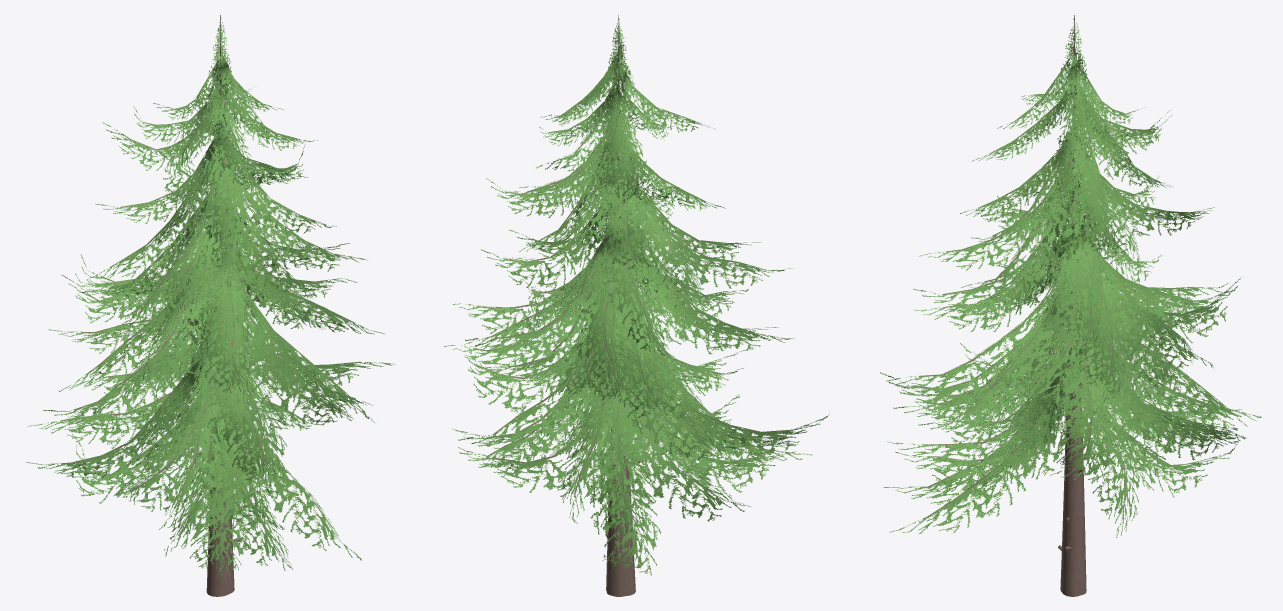
Rendered from tree_Pine_L2_LOD0.fbx.
The picture shows the model from 3 angles, left to right: view 1: azimuth 30°, elevation 25°; view 2: azimuth 150°, elevation 25°; view 3: azimuth 270°, elevation 25°; orthographic projection.
Visible parts, largest first — view 1: Pine_L2_LOD0; view 2: Pine_L2_LOD0; view 3: Pine_L2_LOD0.
Boxes of the visible parts, x1,y1,x2,y2 form: Pine_L2_LOD0: (26, 15, 395, 596); Pine_L2_LOD0: (444, 15, 829, 596); Pine_L2_LOD0: (880, 15, 1261, 596).
Size of the model in its own units: 1261 by 2010 by 1263.
